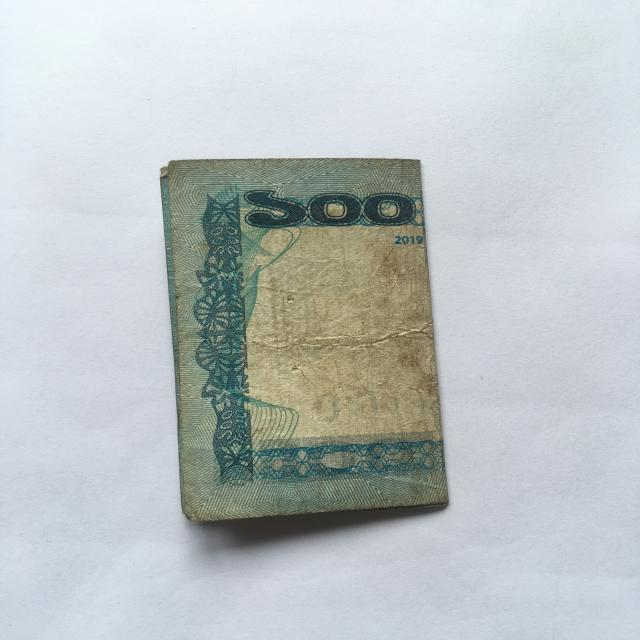Taka: (152, 150, 455, 533)
